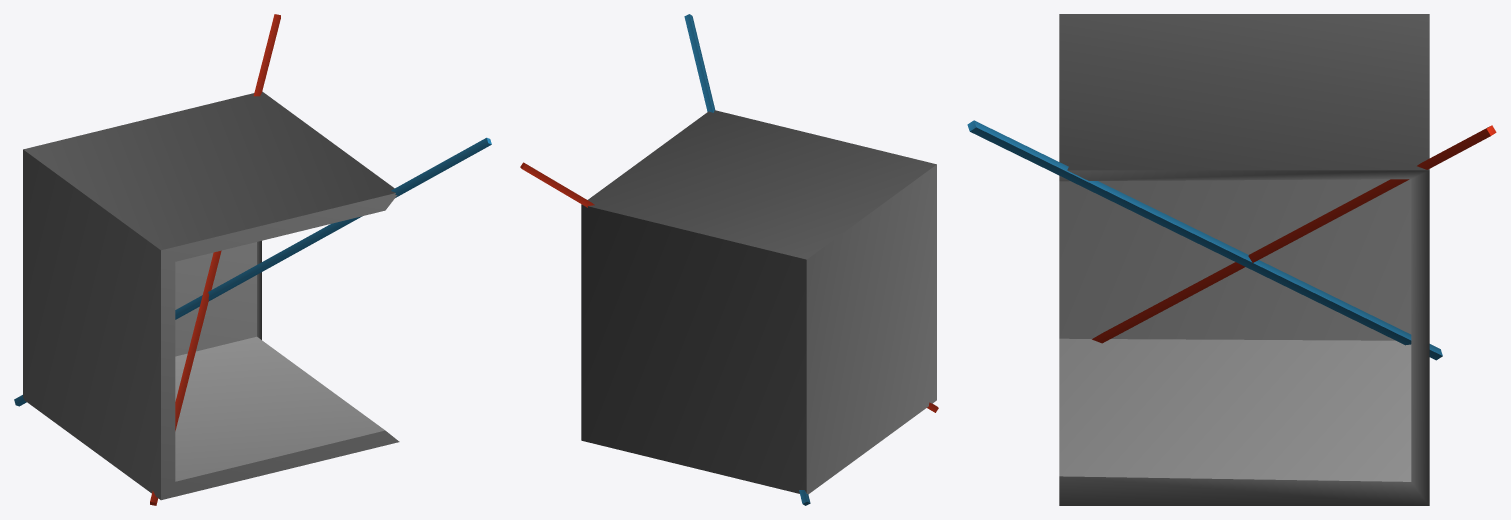
The picture shows the model from 3 angles, left to right: view 1: azimuth 30°, elevation 25°; view 2: azimuth 150°, elevation 25°; view 3: azimuth 270°, elevation 25°; orthographic projection. The views are drawn at different scales.
Parts seen in each view (by area): view 1: Cube.005, Cube.003, Cube.004; view 2: Cube.005, Cube.003, Cube.004; view 3: Cube.005, Cube.003, Cube.004.
Boxes of the visible parts, left/top/right/bottom form: Cube.005: left=23, top=91, right=399, bottom=500; Cube.003: left=14, top=137, right=491, bottom=406; Cube.004: left=150, top=14, right=280, bottom=505; Cube.005: left=581, top=110, right=936, bottom=494; Cube.003: left=684, top=14, right=810, bottom=505; Cube.004: left=520, top=162, right=938, bottom=412; Cube.005: left=1059, top=14, right=1429, bottom=505; Cube.003: left=967, top=120, right=1442, bottom=360; Cube.004: left=1092, top=125, right=1496, bottom=343.
Bounding box in the file's own units: 2.55 × 2.58 × 2.86.
Materials: 1 (1 with a texture image).
